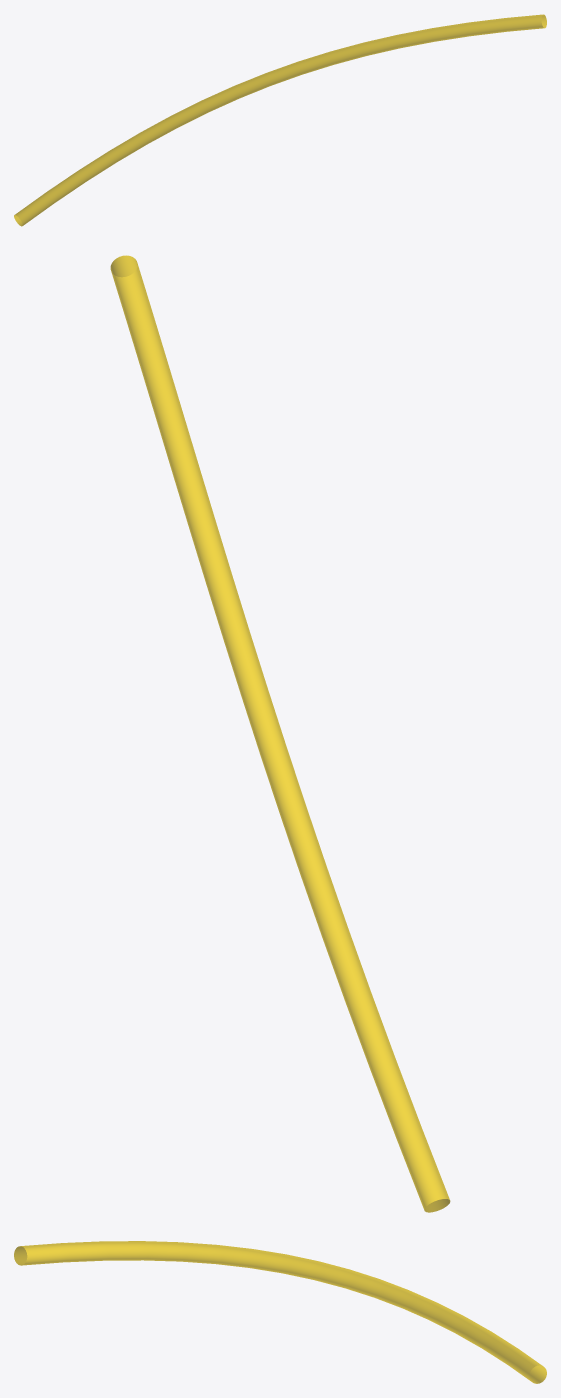
Rendered from Event_100608114_track_91.fbx.
3 renders of one model, top to bottom at view 1: azimuth 30°, elevation 25°; view 2: azimuth 150°, elevation 25°; view 3: azimuth 270°, elevation 25°, orthographic. The views are drawn at different scales.
Parts seen in each view (by area): view 1: Model; view 2: Model; view 3: Model.
Boxes of the visible parts, x1,y1,x2,y2 form: Model: [14, 14, 546, 226]; Model: [110, 255, 450, 1212]; Model: [14, 1241, 546, 1383].
Size of the model in its own units: 1.17 by 0.8337 by 1.1.
